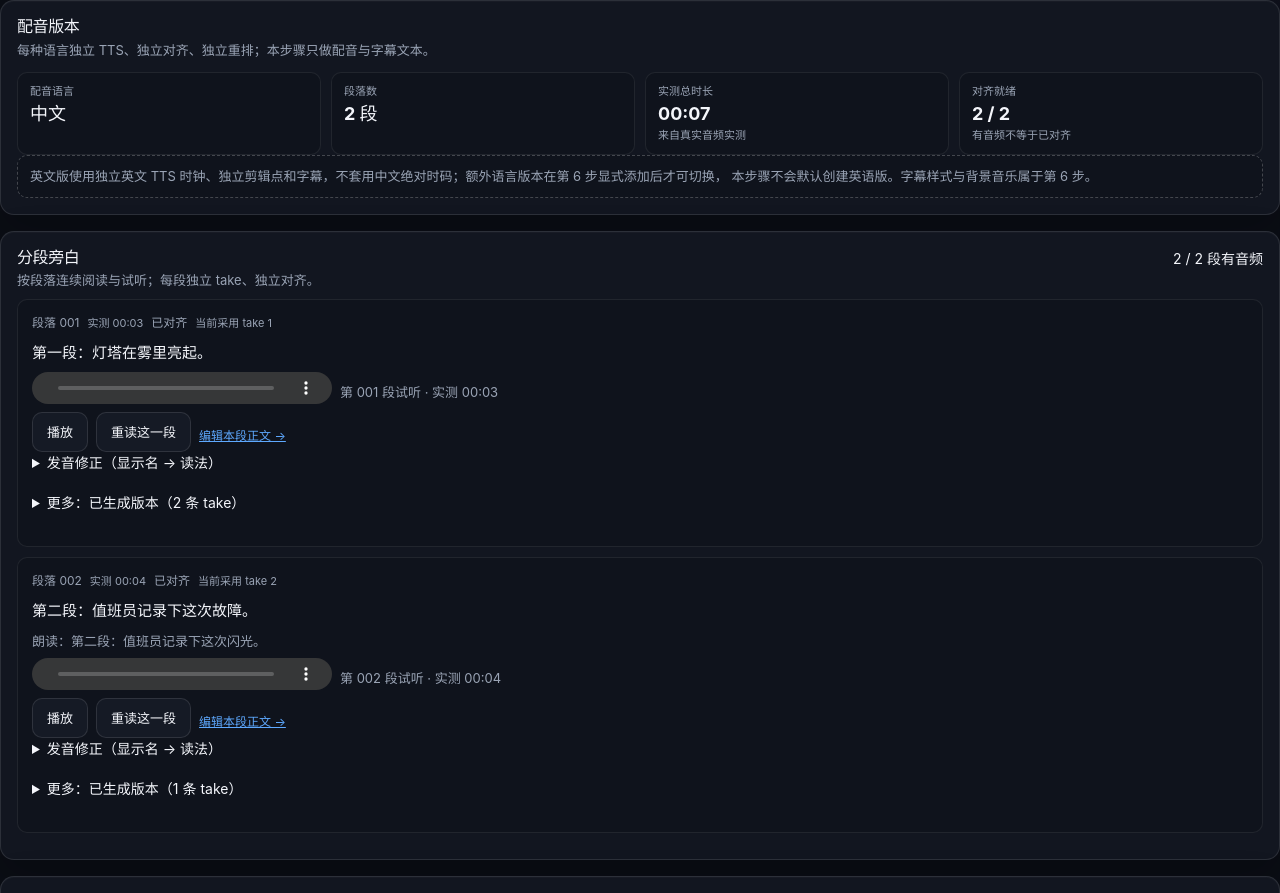
Scenario: audio page — narration reading and audition › reports a re-read only when the server really accepted a job
The image size is (1280, 893).
Expected: the text "第一段：灯塔在雾里亮起。" is shown, [32,343,212,362]
Click the button "重读这一段" below "第 001 段试听": coordinates (144, 432) [96,412,191,452]
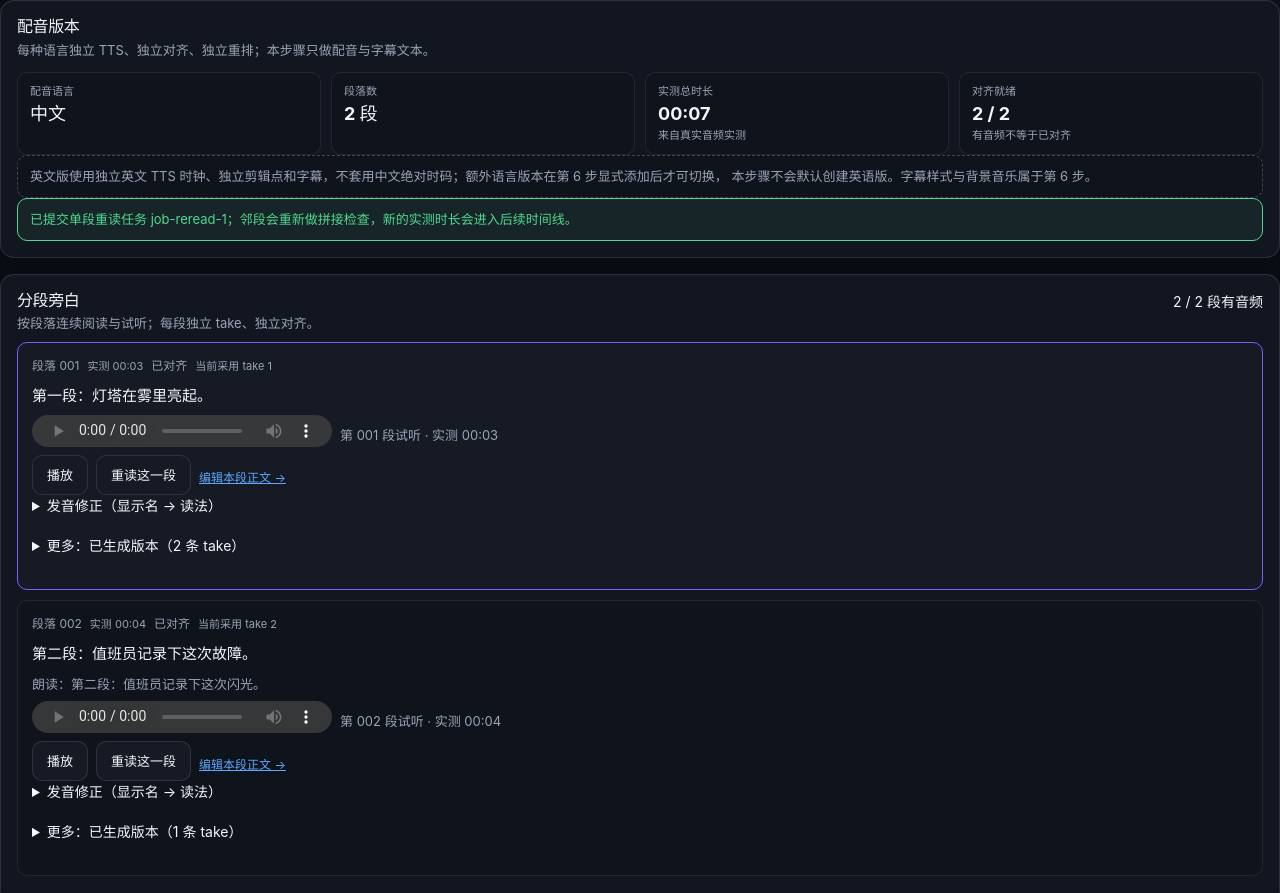
Expected: the text "已提交单段重读任务 job-reread-1；邻段会重新做拼接检查，新的实测时长会进入后续时间线。" is shown, [17,198,1263,240]
